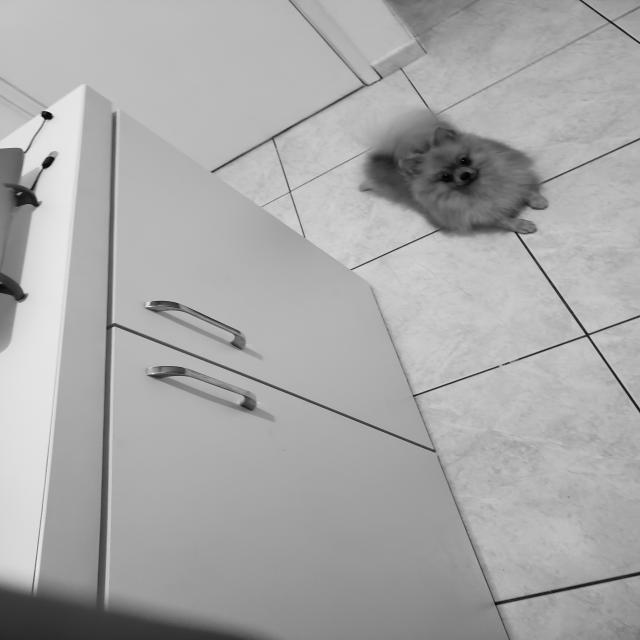laying down: (338, 104, 572, 239)
